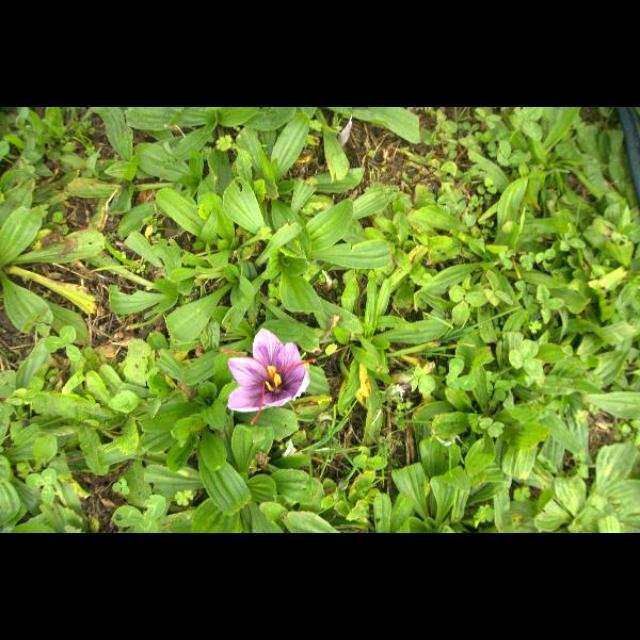flower: (228, 329, 316, 425)
